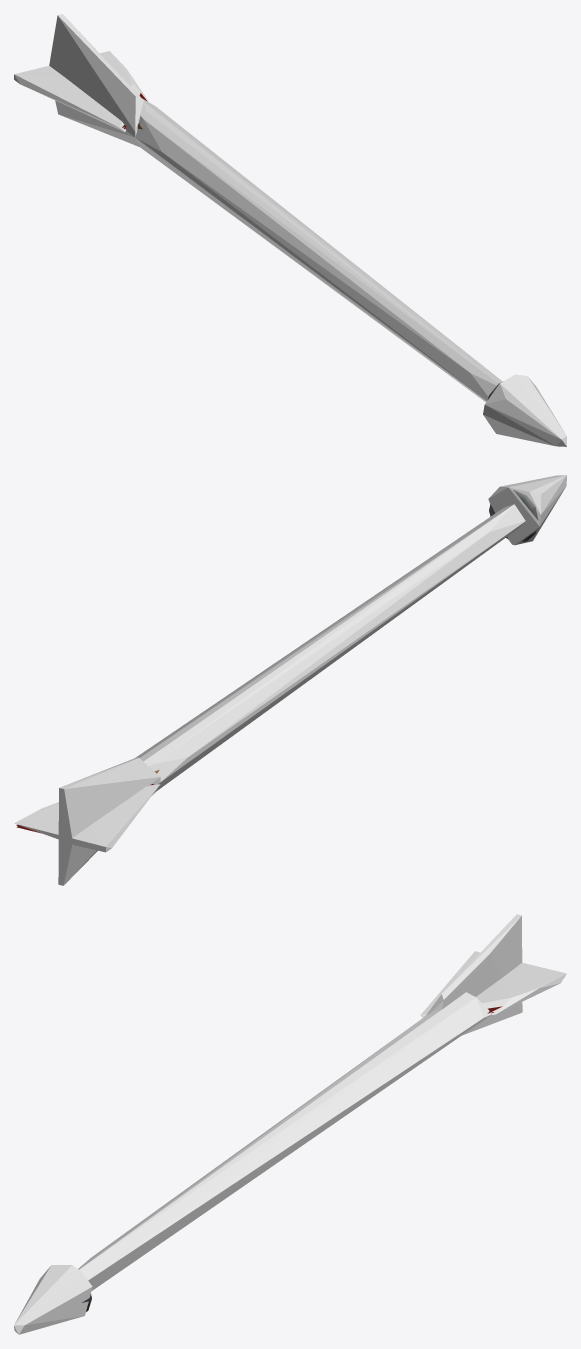
The model's file is SM_Arrow.fbx.
3 renders of one model, top to bottom at view 1: azimuth 30°, elevation 25°; view 2: azimuth 150°, elevation 25°; view 3: azimuth 330°, elevation 25°, orthographic. The views are drawn at different scales.
Visible parts, largest first — view 1: SM_Arrow_ConvexHulls; view 2: SM_Arrow_ConvexHulls; view 3: SM_Arrow_ConvexHulls.
Boxes of the visible parts, x1=… form: SM_Arrow_ConvexHulls: x1=14, y1=14, x2=566, y2=446; SM_Arrow_ConvexHulls: x1=14, y1=475, x2=566, y2=885; SM_Arrow_ConvexHulls: x1=14, y1=914, x2=566, y2=1334.
Bounding box in the file's own units: 17.75 × 165 × 17.73.
Materials: 1 (1 with a texture image).
